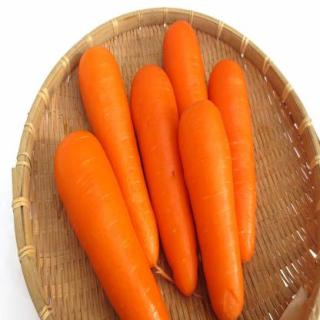Wortel: (55, 133, 171, 320), (79, 46, 161, 268), (131, 65, 200, 296), (176, 100, 245, 320)
